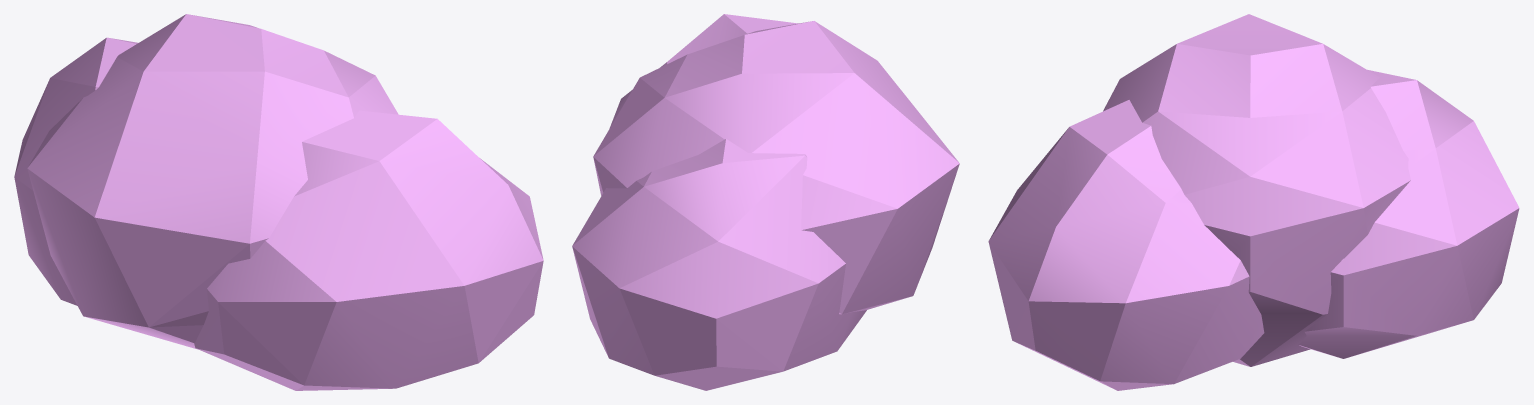
Rendered from Nubenivel2.FBX.
3 views of the same model, side by side, from view 1: azimuth 30°, elevation 25°; view 2: azimuth 150°, elevation 25°; view 3: azimuth 270°, elevation 25° (orthographic). The views are drawn at different scales.
Visible parts, largest first — view 1: Object001; view 2: Object001; view 3: Object001.
Boxes of the visible parts, x1,y1,x2,y2 form: Object001: [14, 14, 543, 390]; Object001: [572, 14, 959, 390]; Object001: [988, 14, 1519, 390].
Size of the model in its own units: 249 by 189 by 307.
